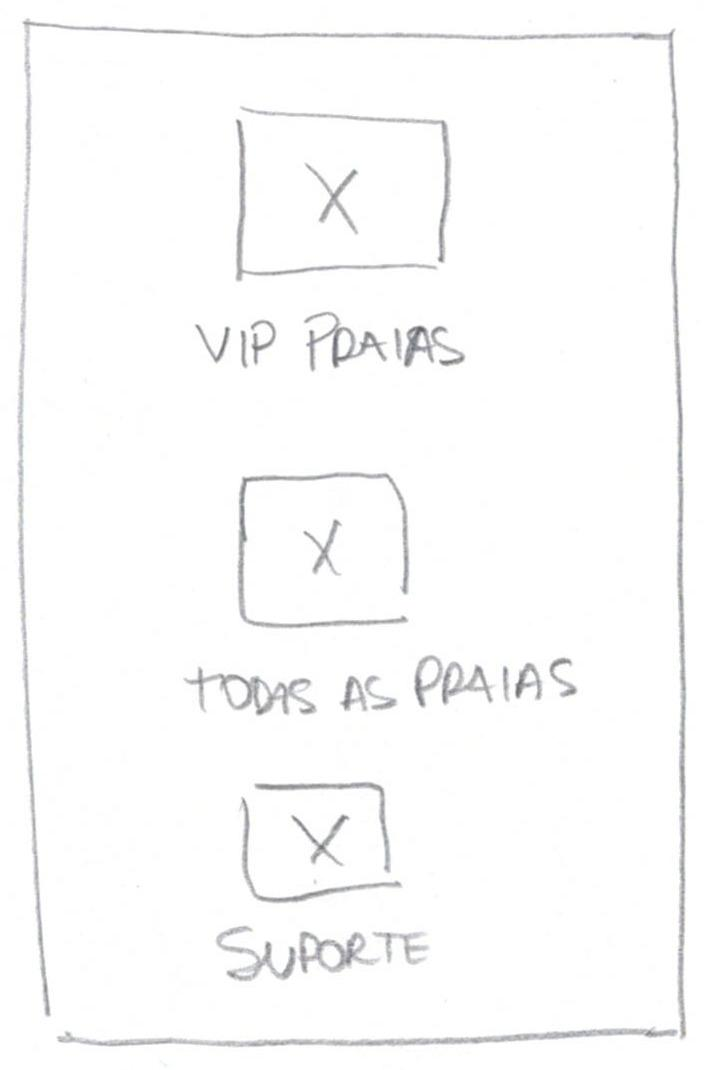Image: (234, 108, 448, 276), (239, 475, 409, 629), (240, 784, 391, 904)
Label: (189, 656, 577, 715), (195, 312, 464, 370), (214, 923, 430, 984)
Screen: (21, 20, 686, 1047)
